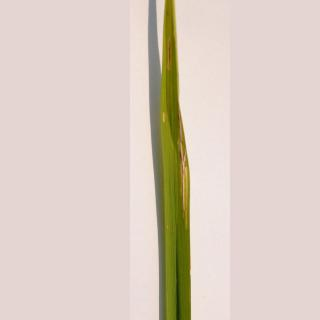Hawar-Daun: (160, 107, 208, 231), (154, 11, 182, 78)
